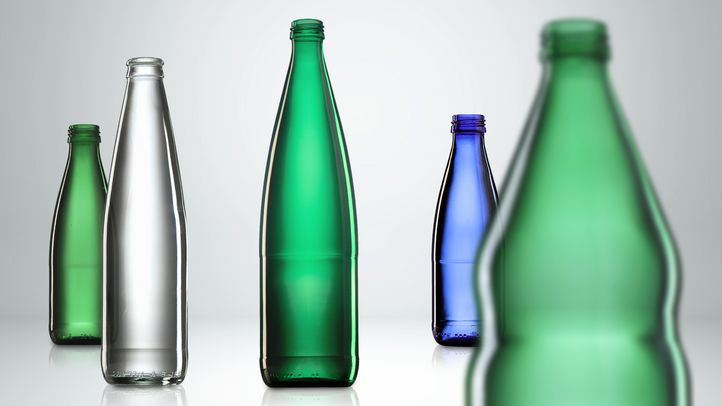glass_bottle: (257, 15, 363, 392), (101, 55, 189, 392), (428, 109, 508, 350), (48, 121, 107, 348)
